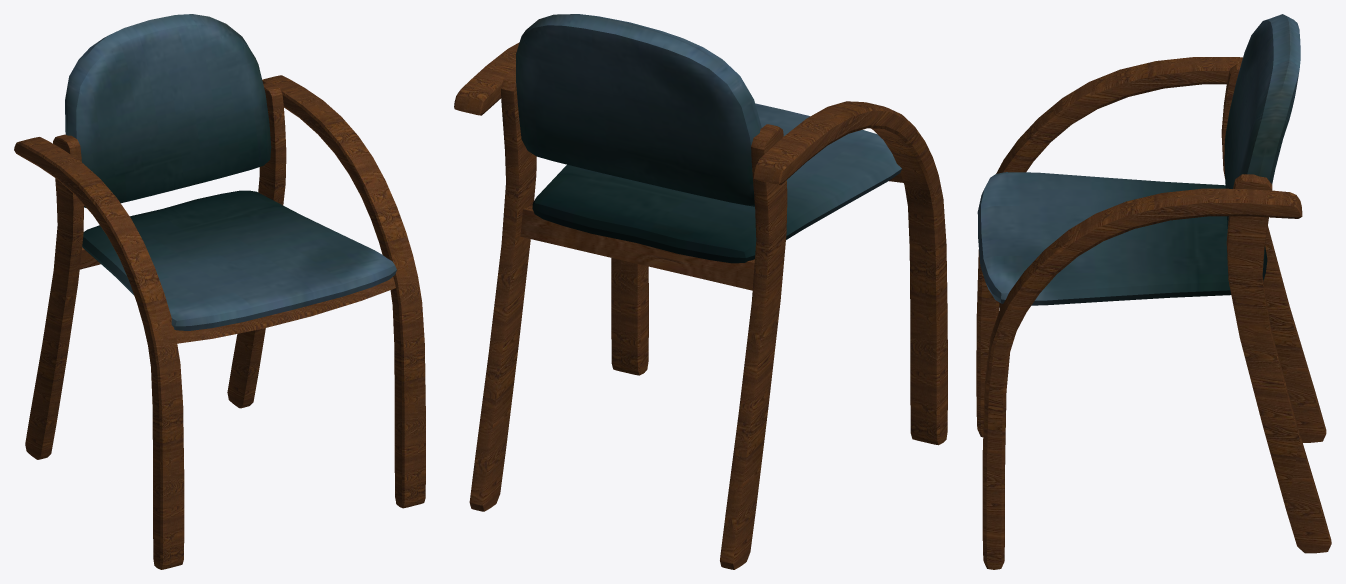
The model's file is chair.gltf.
3 views of the same model, side by side, from view 1: azimuth 30°, elevation 25°; view 2: azimuth 150°, elevation 25°; view 3: azimuth 270°, elevation 25° (orthographic). The views are drawn at different scales.
Visible parts, largest first — view 1: Body; view 2: Body; view 3: Body.
Part boxes in pixels (box(x1,y1,x2,y2)): Body: box(14, 14, 425, 569); Body: box(454, 14, 947, 569); Body: box(976, 14, 1331, 569).
Size of the model in its own units: 0.8635 by 1.26 by 0.8803.
Materials: 2 (2 with a texture image).
